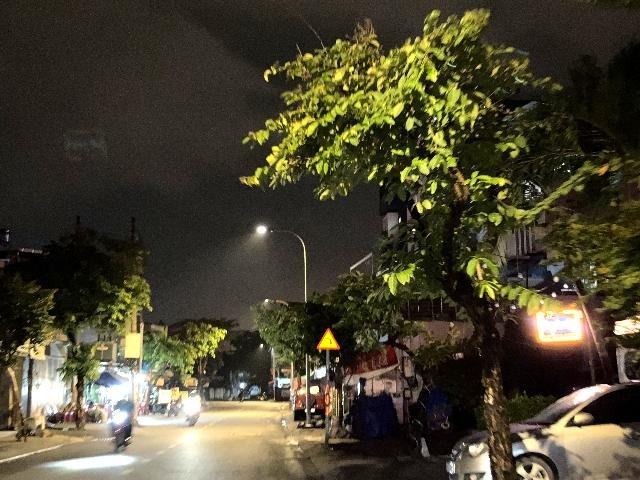cho-ngoat-nguy-hiem-ben-trai: (316, 328, 340, 350)
